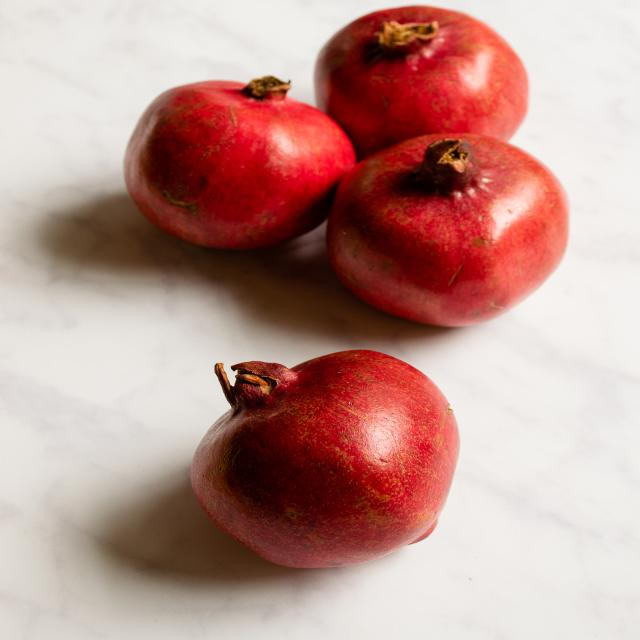apple: (188, 351, 466, 568), (321, 134, 573, 333), (117, 70, 357, 254), (313, 5, 542, 153)
